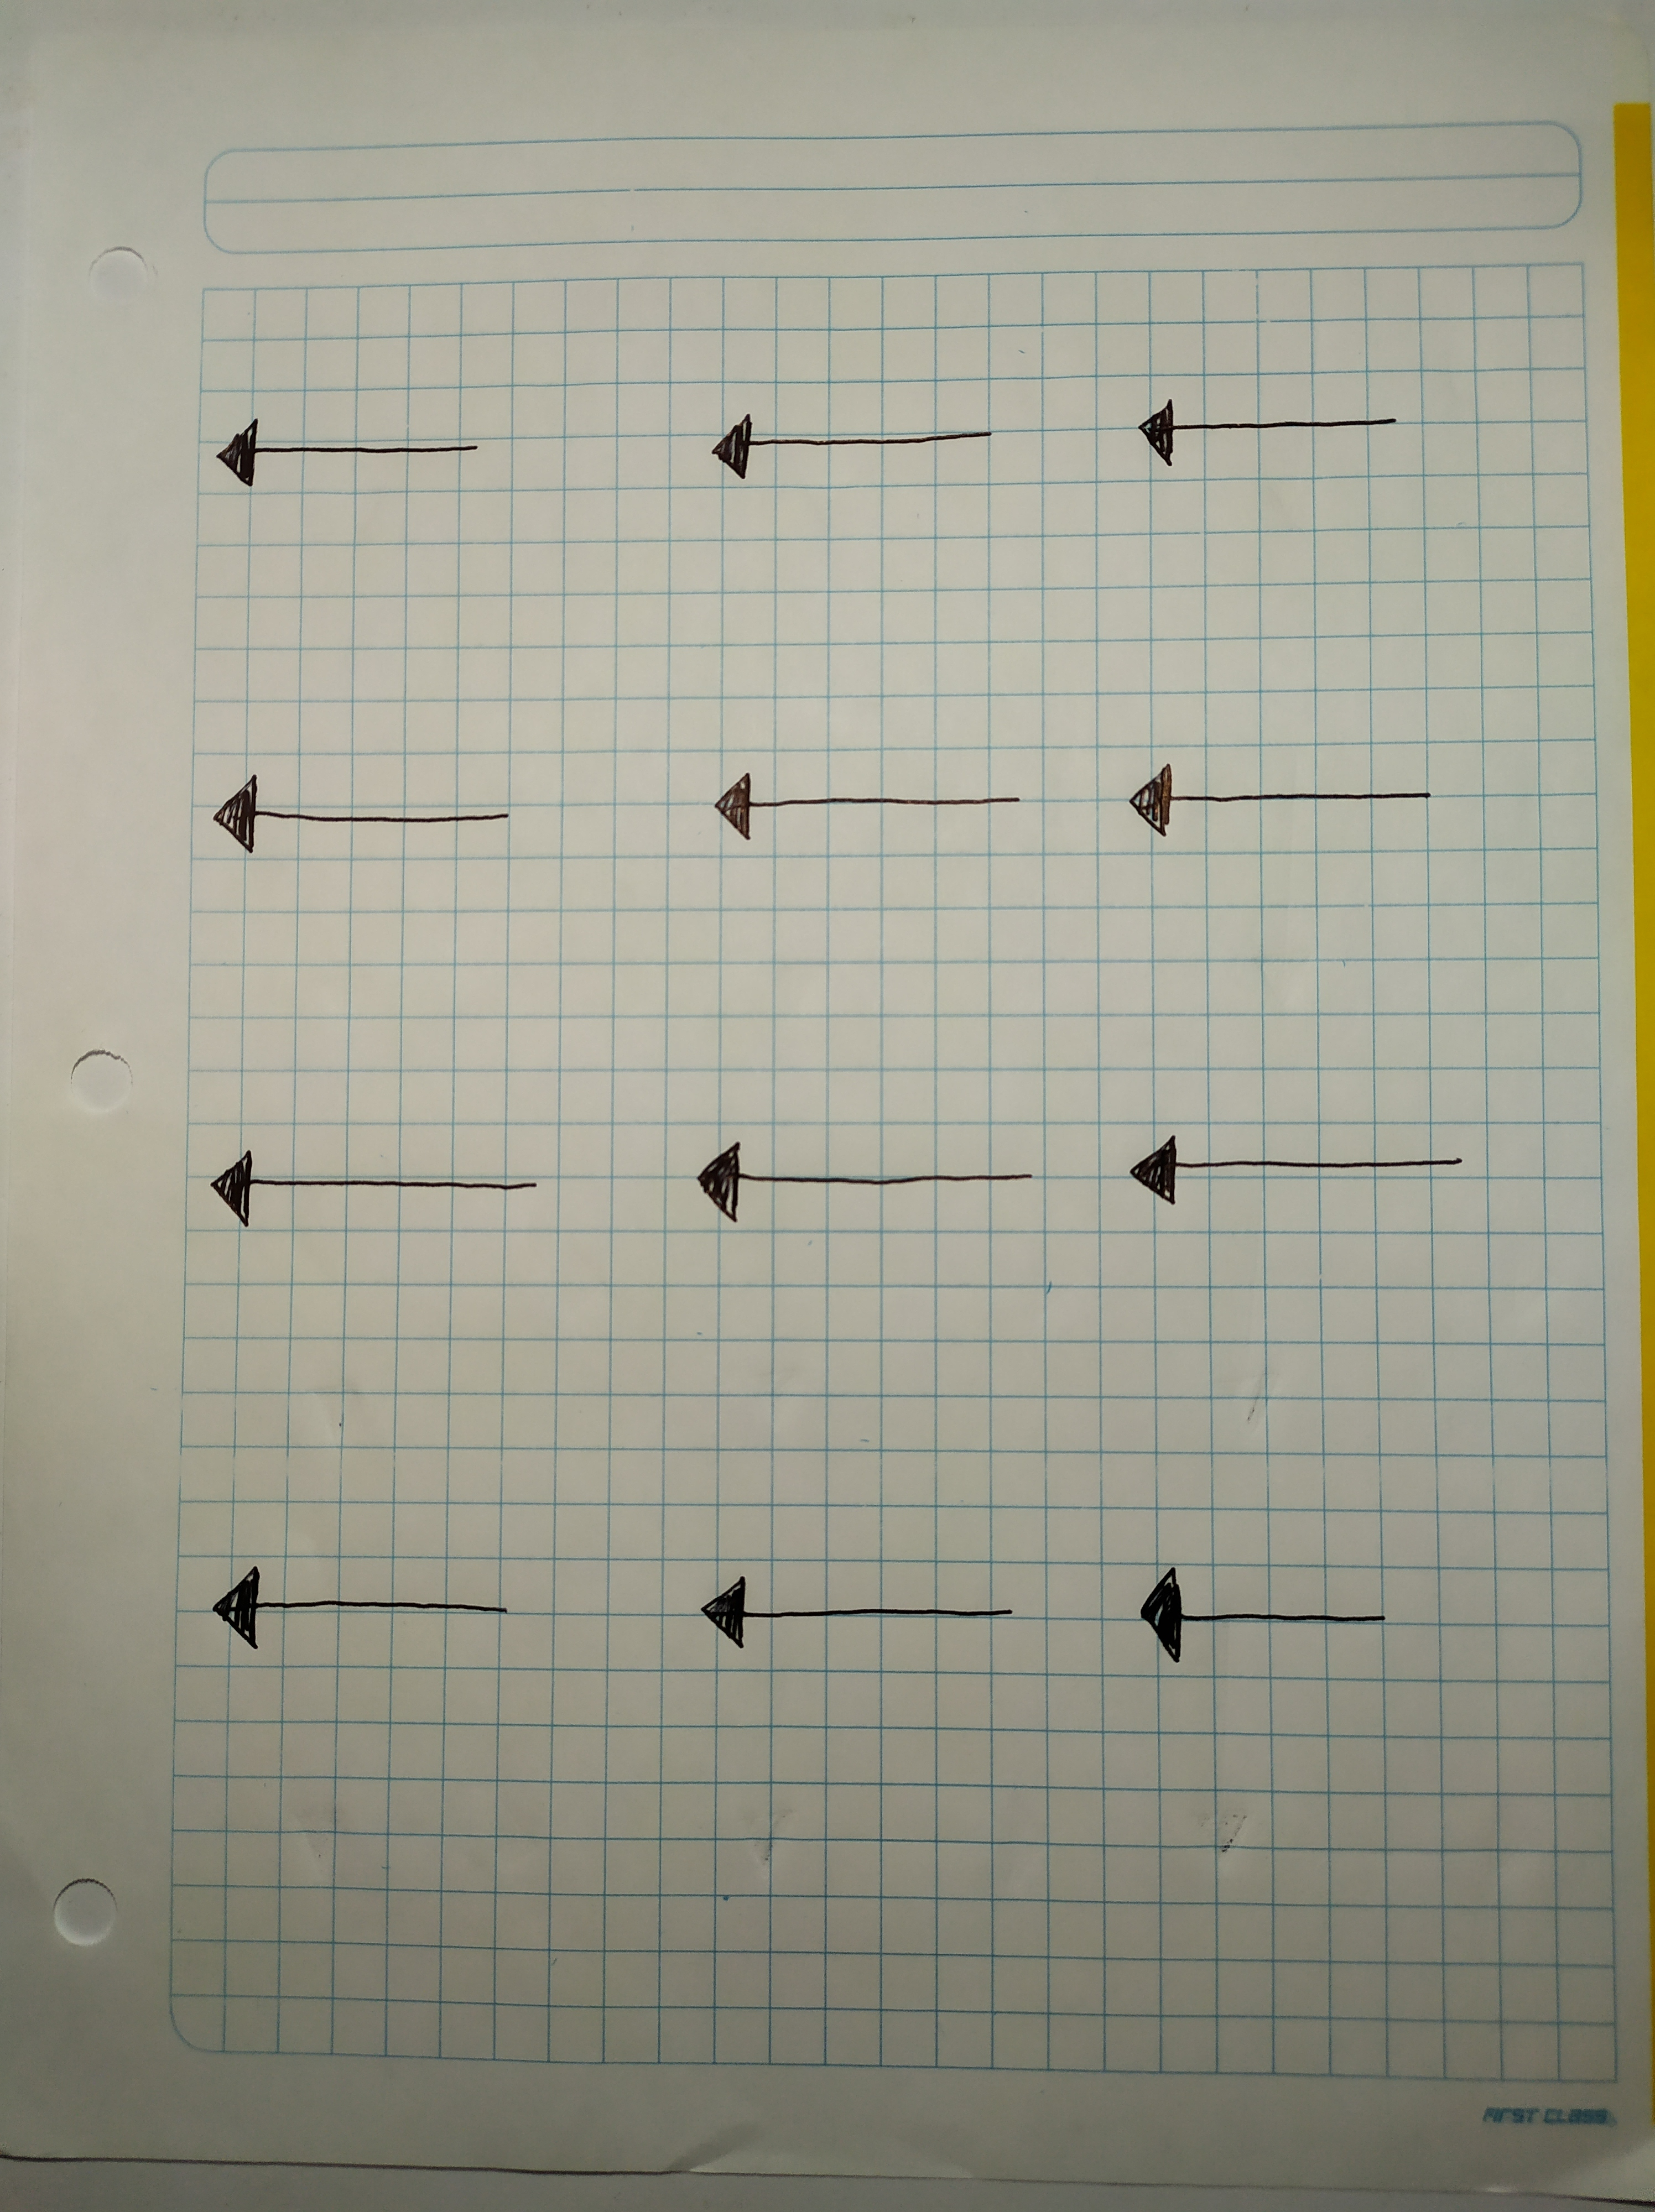arrow_line_left: (1104, 1109, 1502, 1225), (184, 1126, 568, 1246), (184, 1548, 551, 1666), (1090, 367, 1467, 481), (662, 1124, 1048, 1235), (675, 1562, 1034, 1673), (184, 761, 553, 869), (666, 394, 1040, 500), (1113, 1557, 1431, 1673), (188, 398, 509, 509), (678, 763, 1041, 855), (1097, 756, 1450, 850)
